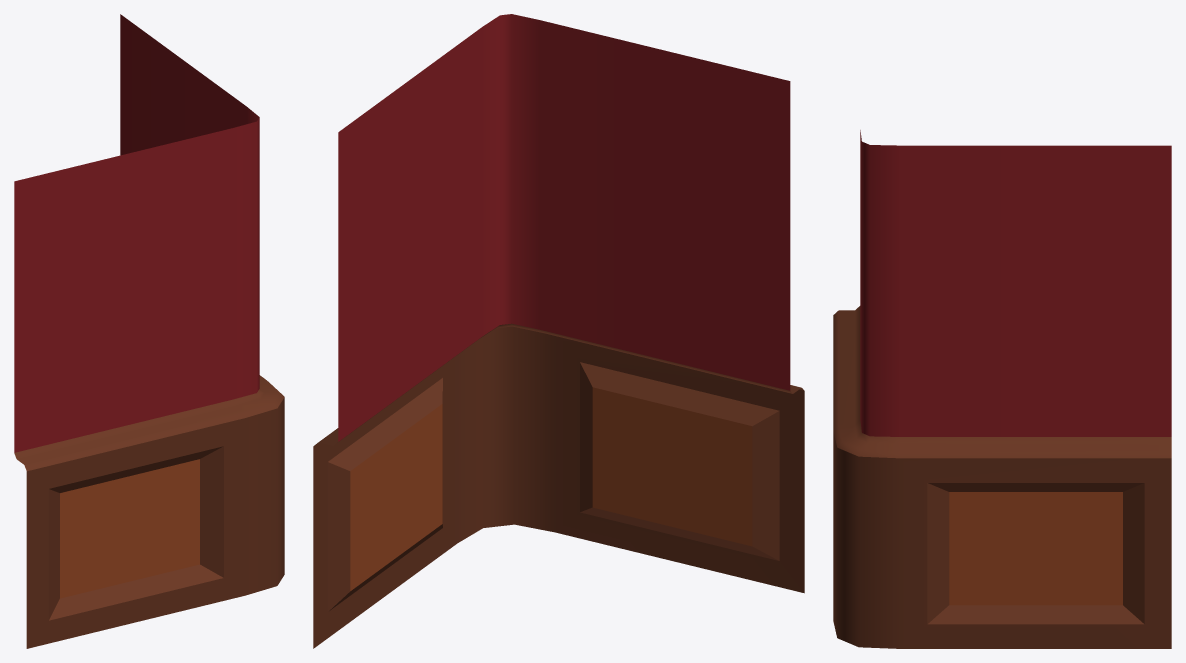
The model's file is HoekMuurbar.fbx.
3 renders of one model, left to right at view 1: azimuth 30°, elevation 25°; view 2: azimuth 150°, elevation 25°; view 3: azimuth 270°, elevation 25°, orthographic. The views are drawn at different scales.
Visible parts, largest first — view 1: Plane.009; view 2: Plane.009; view 3: Plane.009.
Part boxes in pixels (<box>): Plane.009: <box>14,14,284,648</box>; Plane.009: <box>313,14,804,648</box>; Plane.009: <box>833,130,1171,648</box>.
Size of the model in its own units: 1.25 by 2 by 1.25.
